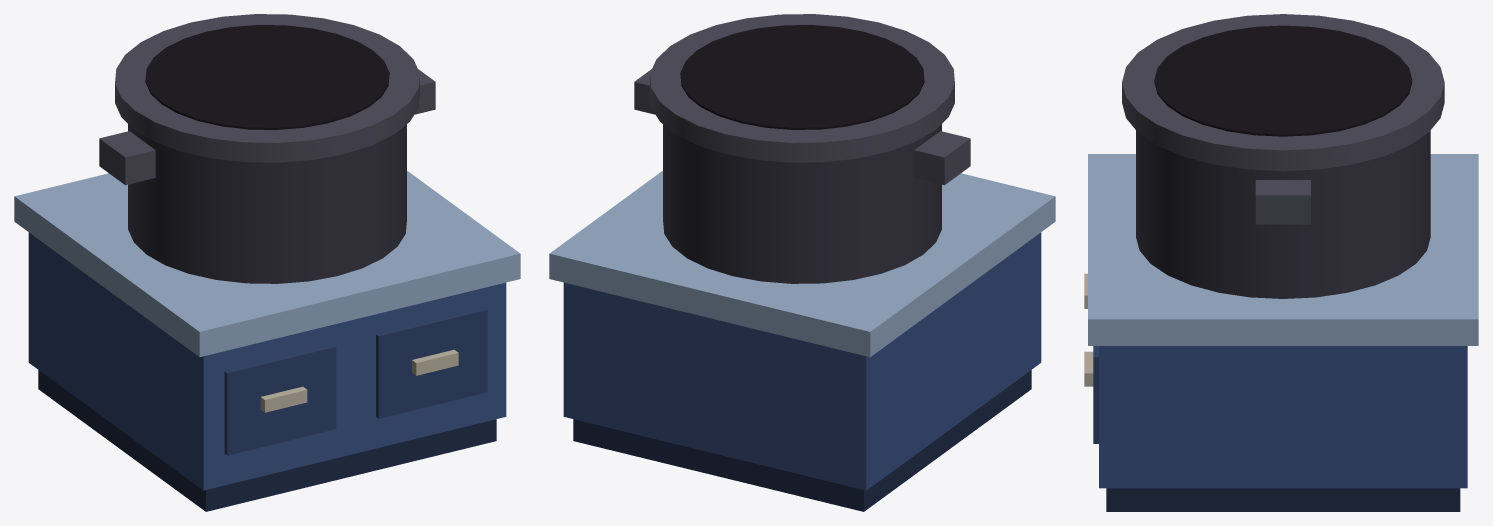
File: k_frost_cauldron.glb
3 renders of one model, left to right at view 1: azimuth 30°, elevation 25°; view 2: azimuth 150°, elevation 25°; view 3: azimuth 270°, elevation 25°, orthographic. The views are drawn at different scales.
Visible parts, largest first — view 1: piece; view 2: piece; view 3: piece.
Boxes of the visible parts, bbox=[...] form: piece: bbox=[14, 14, 520, 511]; piece: bbox=[549, 14, 1055, 511]; piece: bbox=[1084, 14, 1478, 511].
Bounding box in the file's own units: 1.06 × 1.07 × 1.07.
